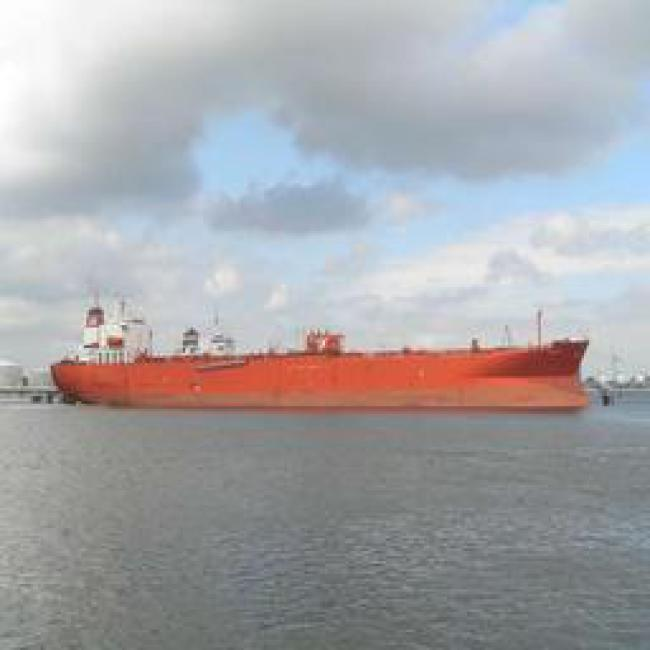Ship: (44, 309, 599, 411)
